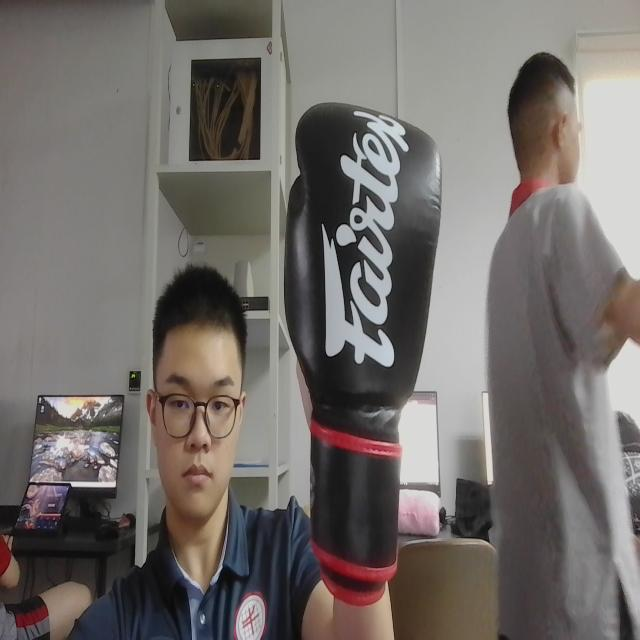boxing glove: (276, 89, 450, 619)
